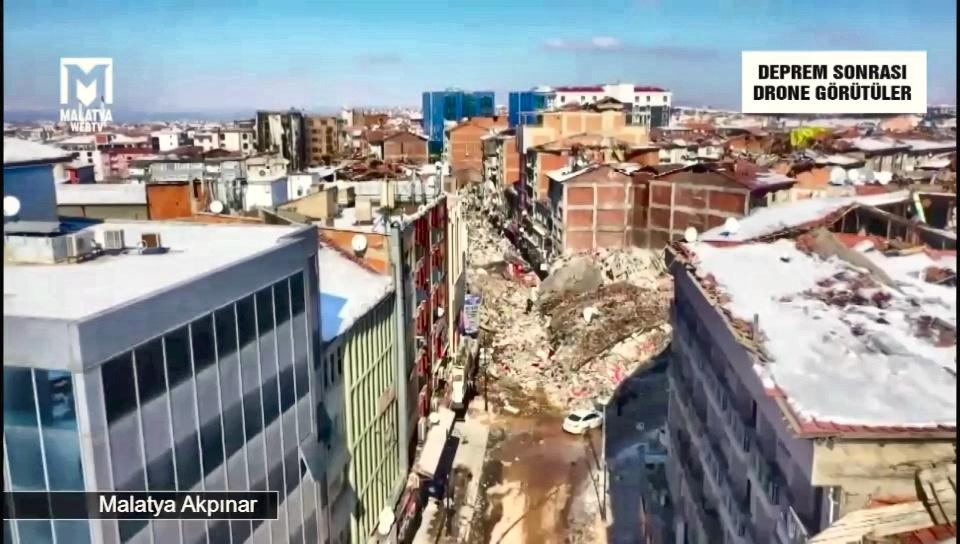kapali: (461, 269, 593, 446), (458, 181, 531, 269)
